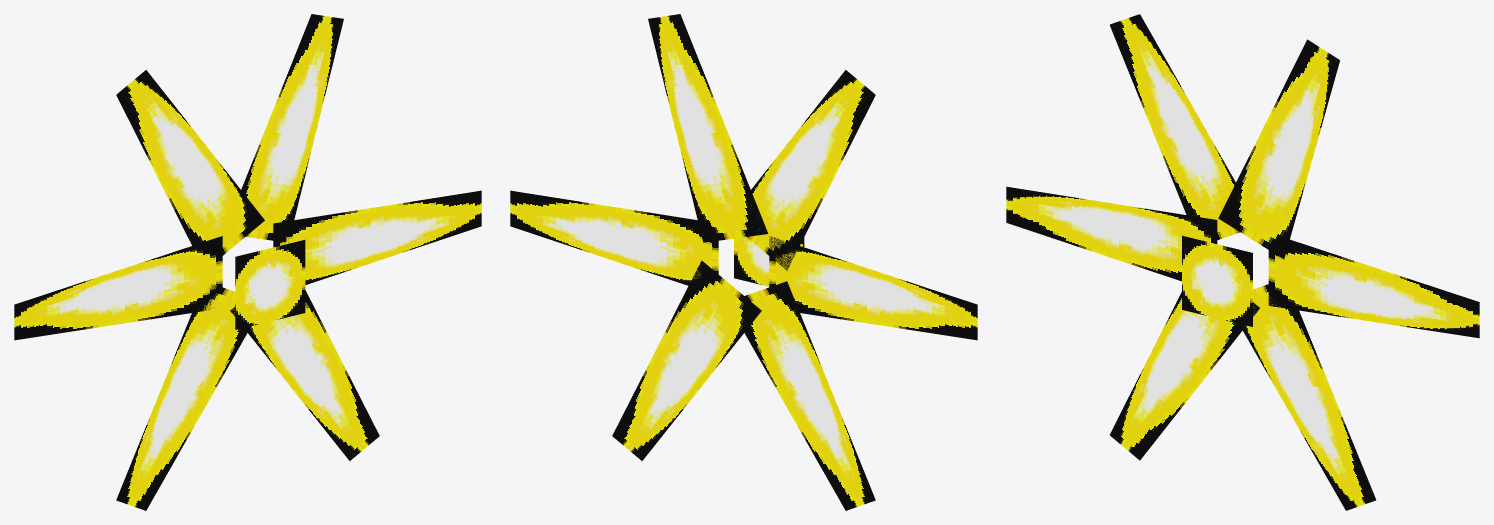
File: muzzle.glb
3 views of the same model, side by side, from view 1: azimuth 30°, elevation 25°; view 2: azimuth 150°, elevation 25°; view 3: azimuth 330°, elevation 25° (orthographic).
Visible parts, largest first — view 1: m0CullBothClampSClampT; view 2: m0CullBothClampSClampT; view 3: m0CullBothClampSClampT.
Part boxes in pixels (x1=…): m0CullBothClampSClampT: x1=14, y1=14, x2=481, y2=510; m0CullBothClampSClampT: x1=510, y1=14, x2=977, y2=510; m0CullBothClampSClampT: x1=1006, y1=14, x2=1479, y2=510.
Size of the model in its own units: 574 by 536 by 50.41.
1 material, 1 textured.
